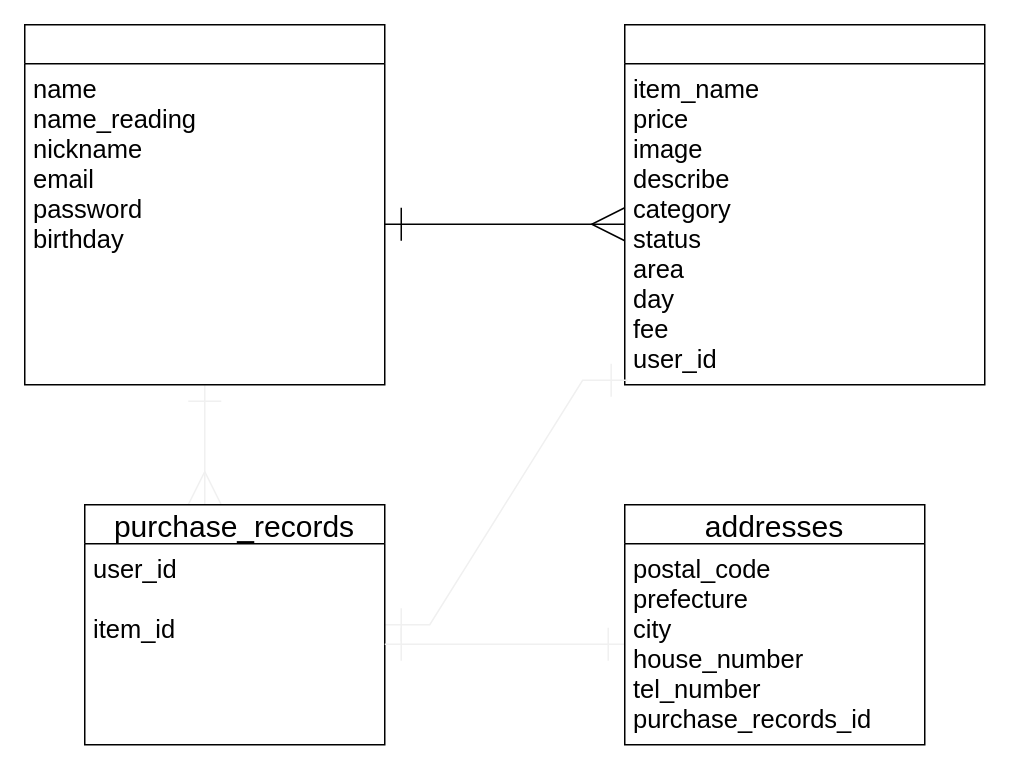
The diagram is 1010 pixels wide and 770 high, and some of its shapes have lost their labels. The shapes that lost their labels are listed below. From the top down, each one's box as (x1, y1, x2, y2) in pixels, then its label:
(23, 23, 385, 385): users
(623, 23, 985, 385): itmes
